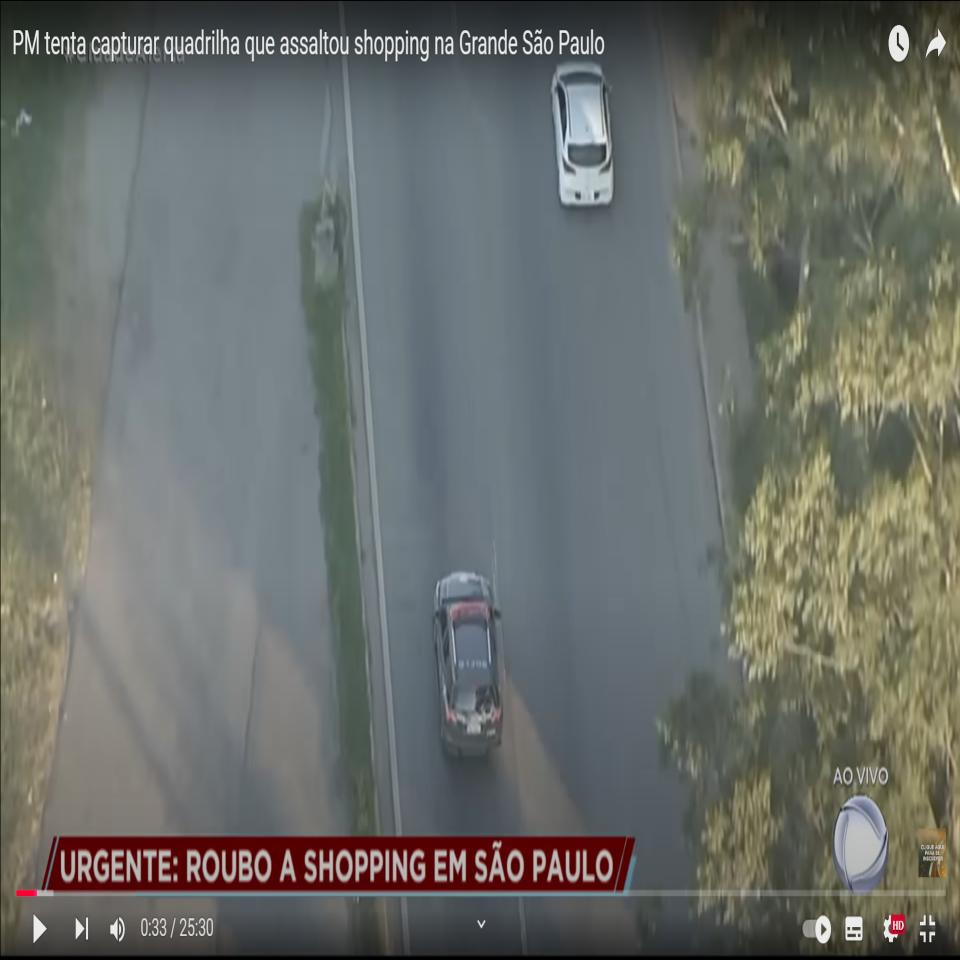viatura: (427, 566, 505, 760)
